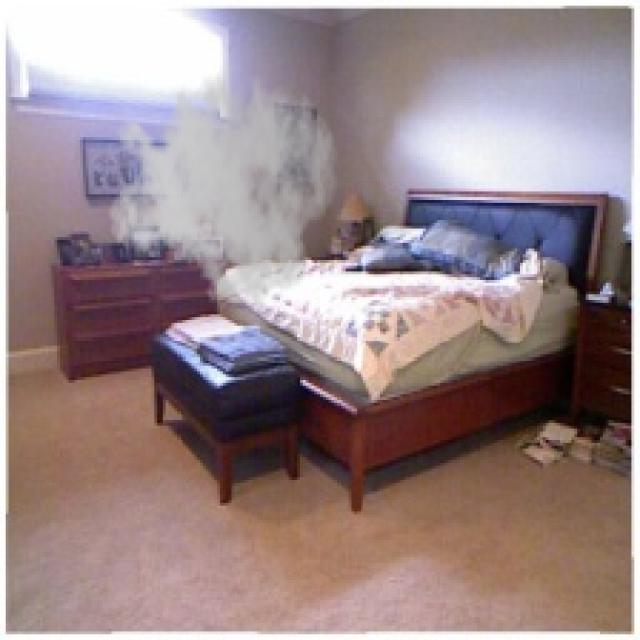smoke: (109, 43, 340, 314)
